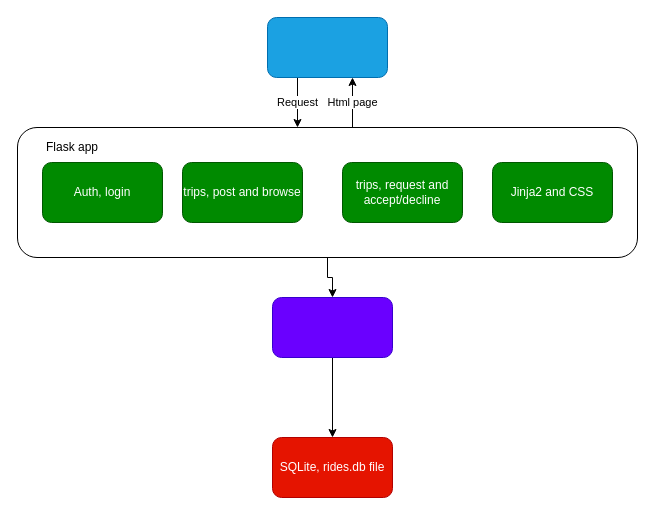
This 655x515 diagram has some shape labels left out. Each missing label, with the centre of its shape:
"Browser" belongs at point (327, 47).
"db.py SQL" belongs at point (332, 327).
